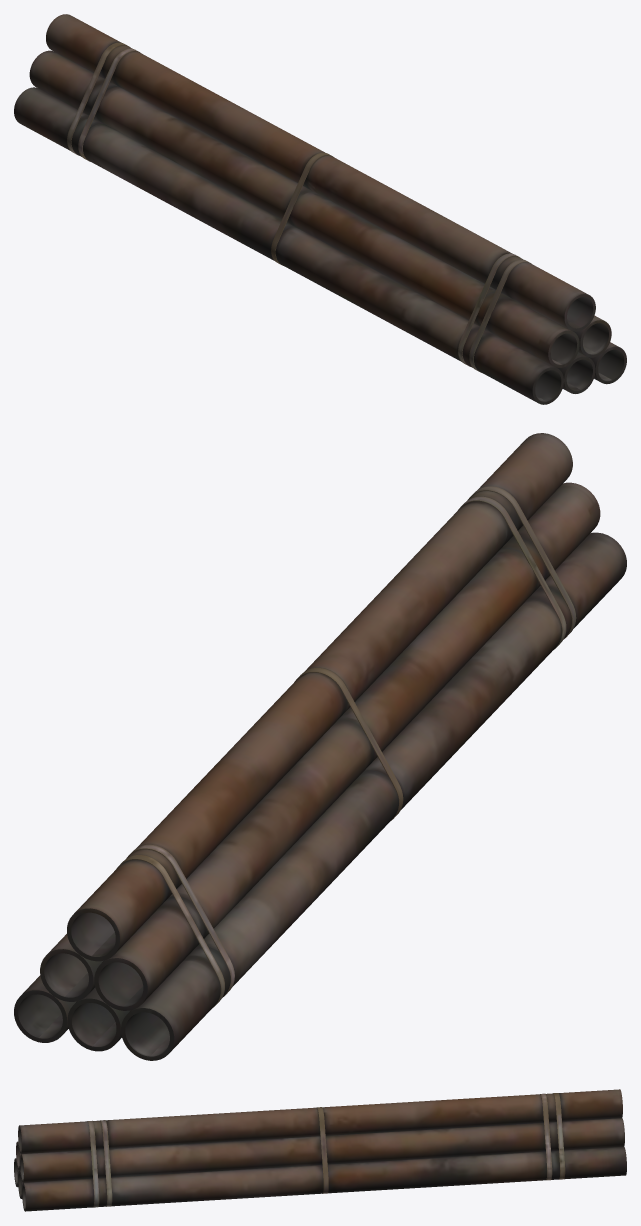
The model's file is tubes.glb.
3 views of the same model, one above another, from view 1: azimuth 30°, elevation 25°; view 2: azimuth 150°, elevation 25°; view 3: azimuth 270°, elevation 25° (orthographic). The views are drawn at different scales.
Visible parts, largest first — view 1: Object_4, Object_5; view 2: Object_4, Object_5; view 3: Object_4, Object_5.
Part boxes in pixels (x1=…): Object_4: x1=14, y1=14, x2=626, y2=404; Object_5: x1=67, y1=42, x2=531, y2=372; Object_4: x1=14, y1=433, x2=626, y2=1060; Object_5: x1=116, y1=486, x2=576, y2=1007; Object_4: x1=14, y1=1089, x2=626, y2=1211; Object_5: x1=87, y1=1093, x2=565, y2=1207.
Bounding box in the file's own units: 1.13 × 0.5232 × 4.04.
Materials: 2 (2 with a texture image).
